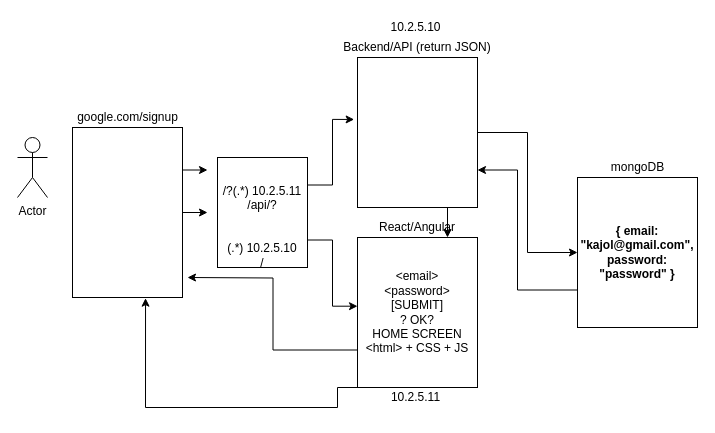
Some shapes in this 715 by 433 pixel diagram are drawn without their labels. Here are the shapes that lost their labels. From the top down, the centre of each, then its label:
(x=417, y=132): RouteHandlers or Endpoint "/api/signup"
(x=127, y=212): <email> <password> [SUBMIT] (JS CODE!!!) submit -> DATA+ REQ -> /api/post/new
